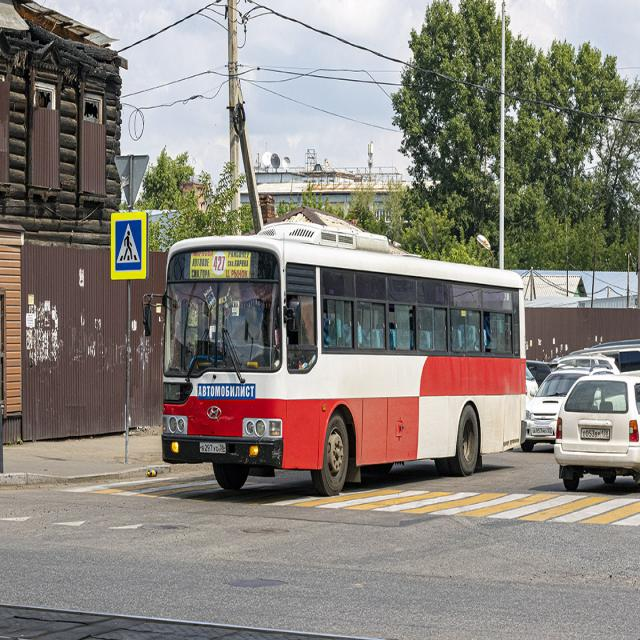number-of-bus: (214, 253, 227, 274)
